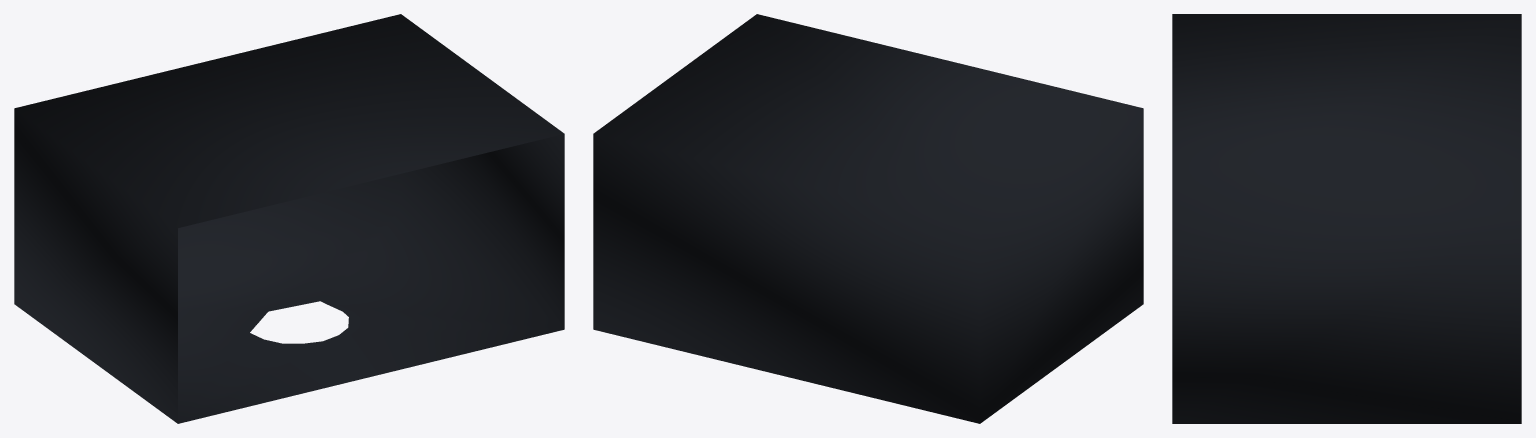
The model's file is BlackBox.gltf.
The picture shows the model from 3 angles, left to right: view 1: azimuth 30°, elevation 25°; view 2: azimuth 150°, elevation 25°; view 3: azimuth 270°, elevation 25°; orthographic projection. The views are drawn at different scales.
Visible parts, largest first — view 1: Cube.022; view 2: Cube.022; view 3: Cube.022.
Boxes of the visible parts, x1=… form: Cube.022: x1=14, y1=14, x2=564, y2=423; Cube.022: x1=593, y1=14, x2=1143, y2=423; Cube.022: x1=1172, y1=14, x2=1521, y2=423.
Size of the model in its own units: 327 by 159 by 240.
1 material, 1 textured.
